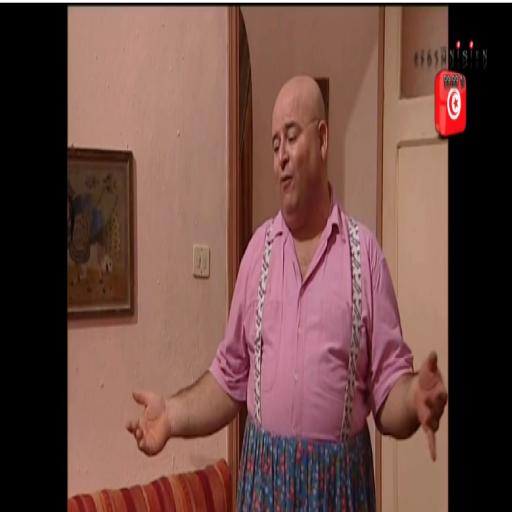sboui: (272, 76, 327, 227)
